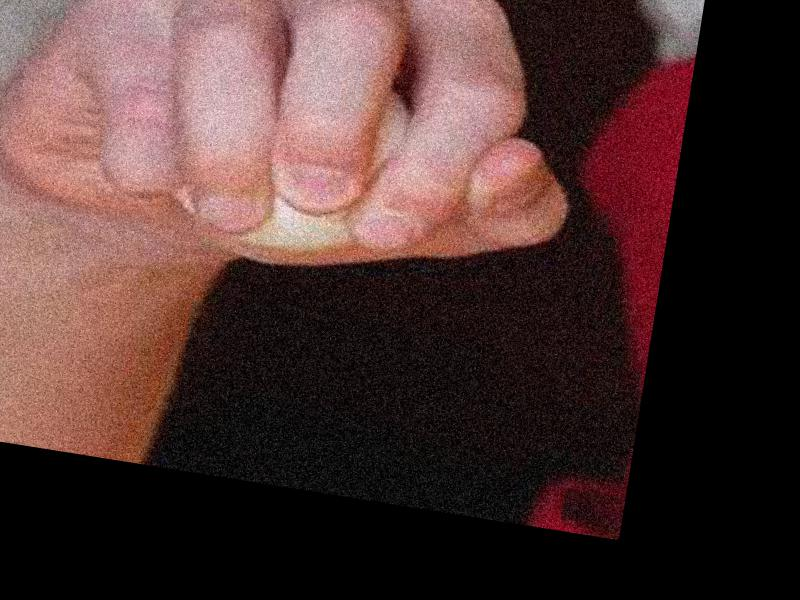Eggs: (167, 56, 441, 272)
